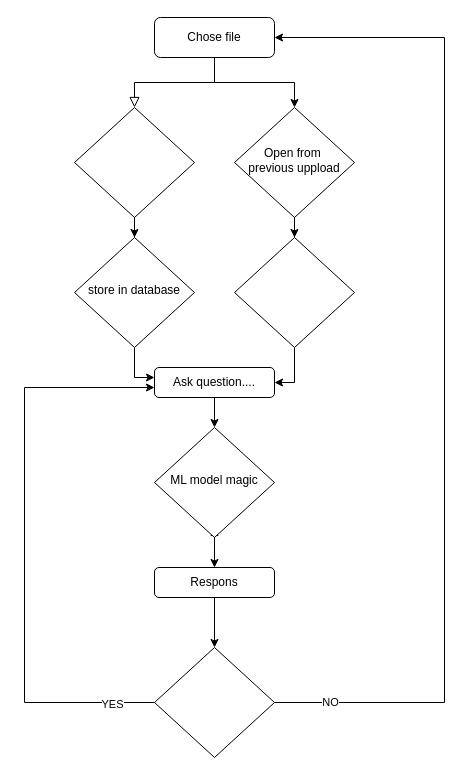
This 470x775 diagram has some shape labels left out. Each missing label, with the centre of its shape:
fetch from database: the point at 294,292
New question: the point at 214,702
Upload new text: the point at 134,162
